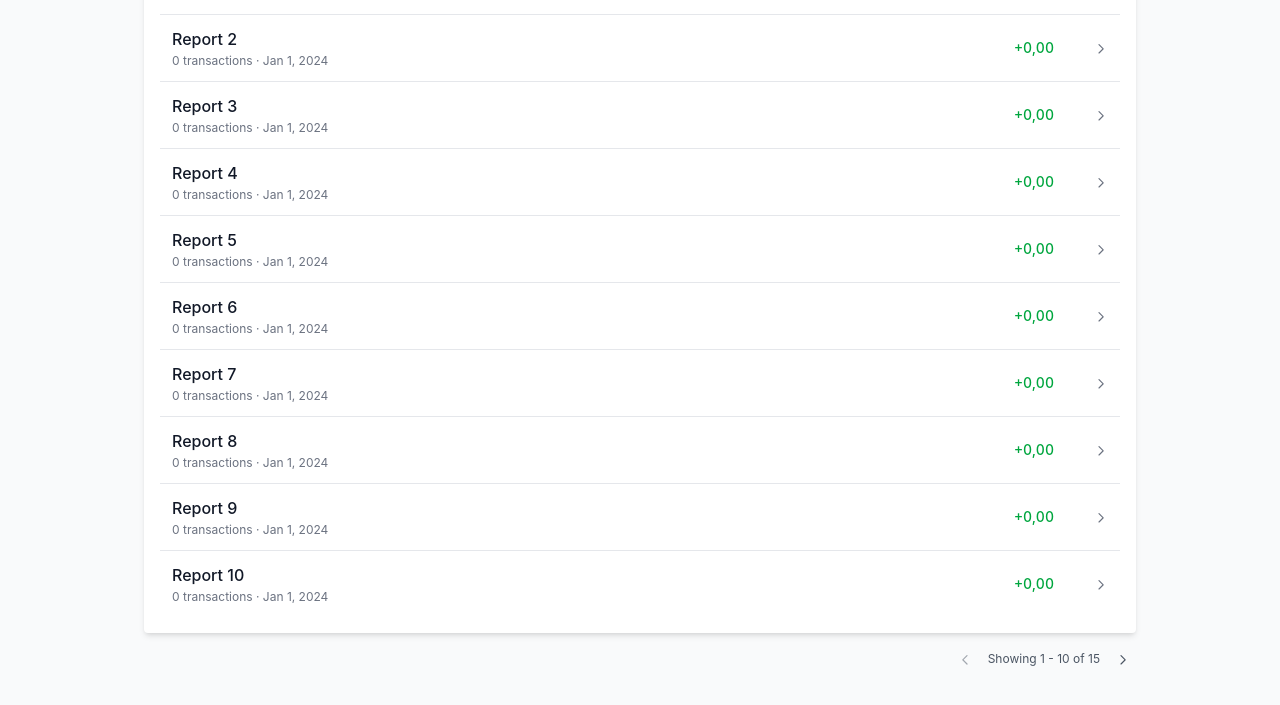
Test: Reports › pagination › navigates to page 2 and shows correct range
(page scrolled)
Click the button named "Next page" at (1122, 659), box [1108, 645, 1136, 673]
(page scrolled)
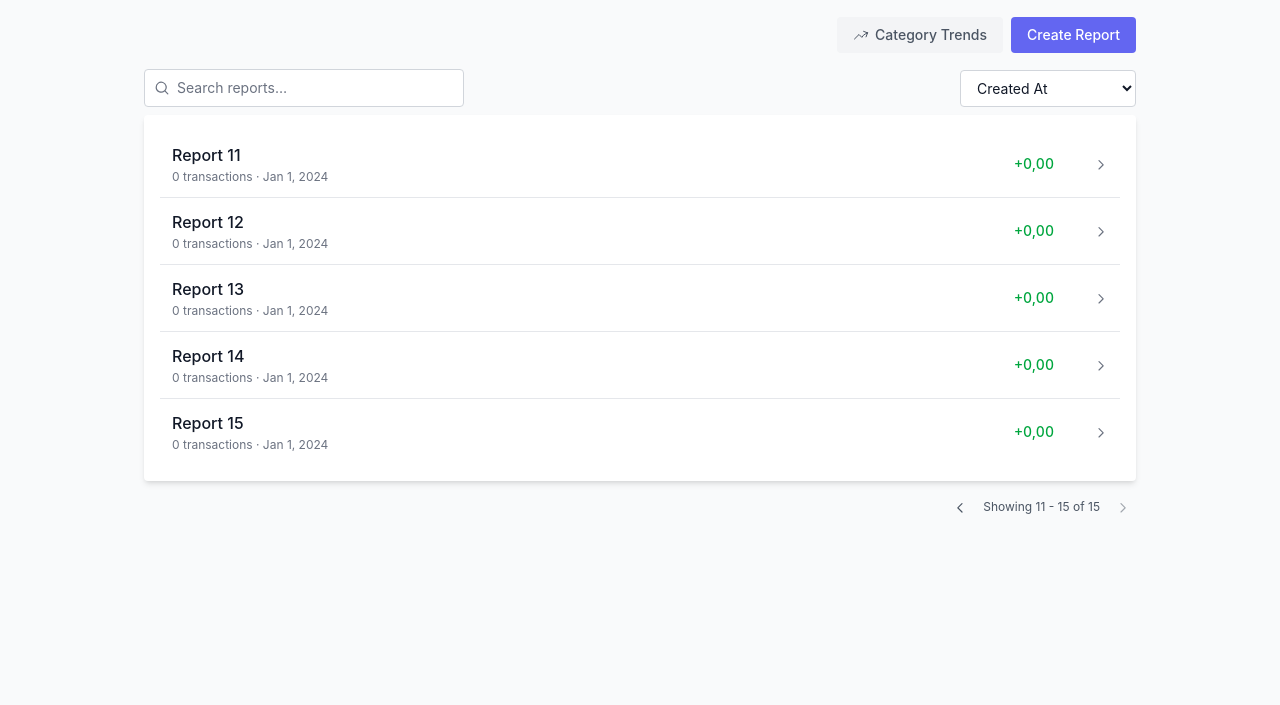
Expected: the text "Report 11" is shown, [172, 145, 241, 165]
Expected: the text "Showing 11 - 15 of 15" is shown, [983, 499, 1100, 515]
